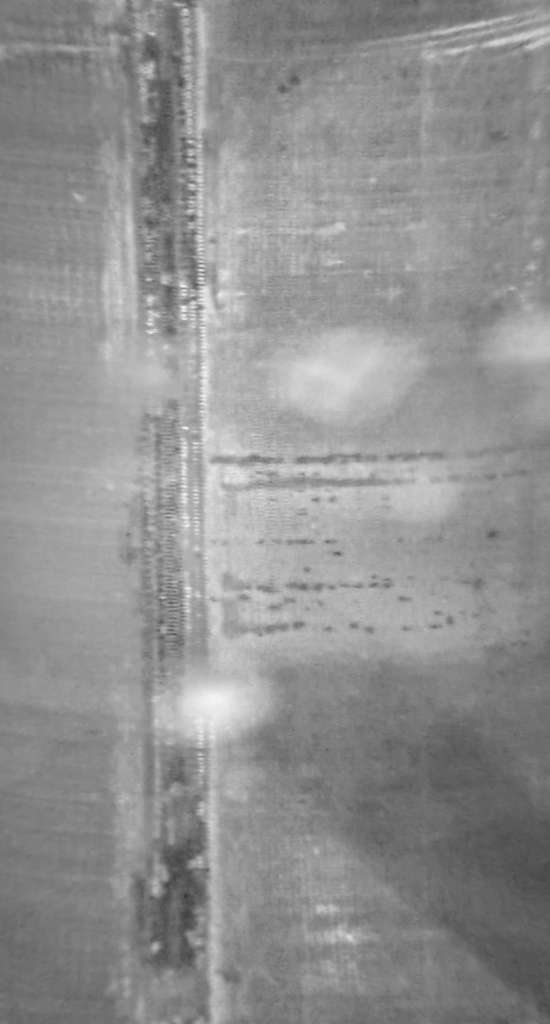splice: (114, 3, 221, 1024)
